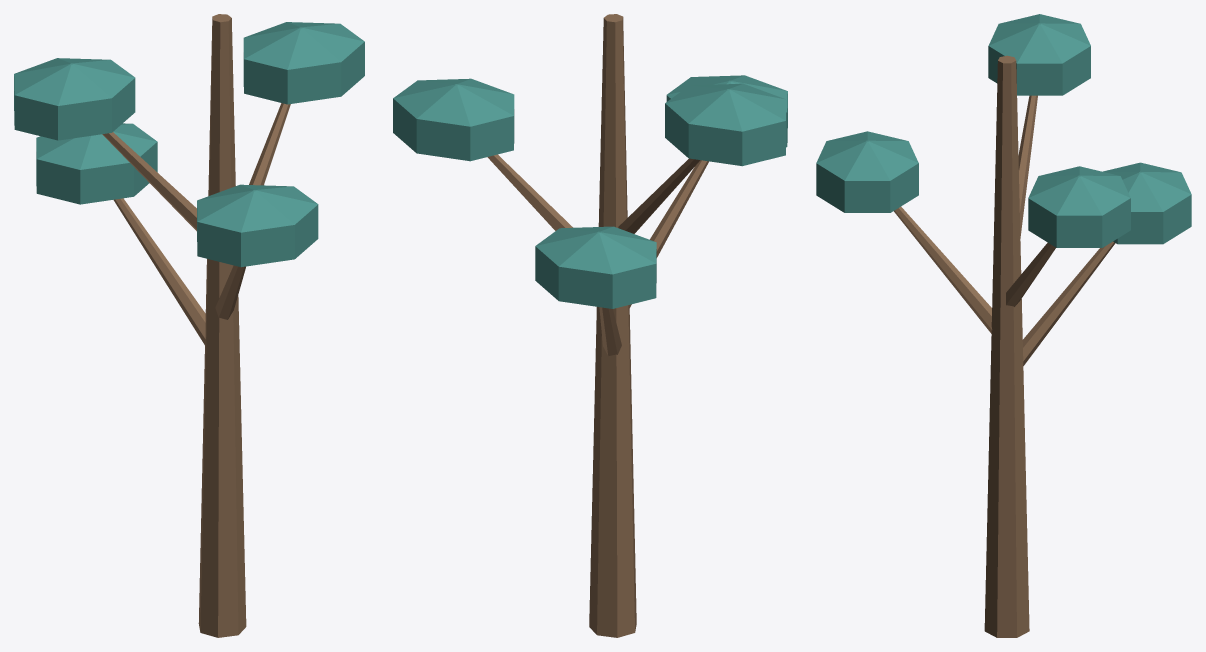
Rendered from Nature_Alien_Tree_03.glb.
3 renders of one model, left to right at view 1: azimuth 30°, elevation 25°; view 2: azimuth 150°, elevation 25°; view 3: azimuth 270°, elevation 25°, orthographic. The views are drawn at different scales.
Parts seen in each view (by area): view 1: Nature_Alien_Tree_03; view 2: Nature_Alien_Tree_03; view 3: Nature_Alien_Tree_03.
Part boxes in pixels (x1,y1,x2,y2): Nature_Alien_Tree_03: (14, 14, 364, 637); Nature_Alien_Tree_03: (393, 14, 787, 637); Nature_Alien_Tree_03: (816, 14, 1191, 637).
Bounding box in the file's own units: 1.85 × 3 × 1.79.
